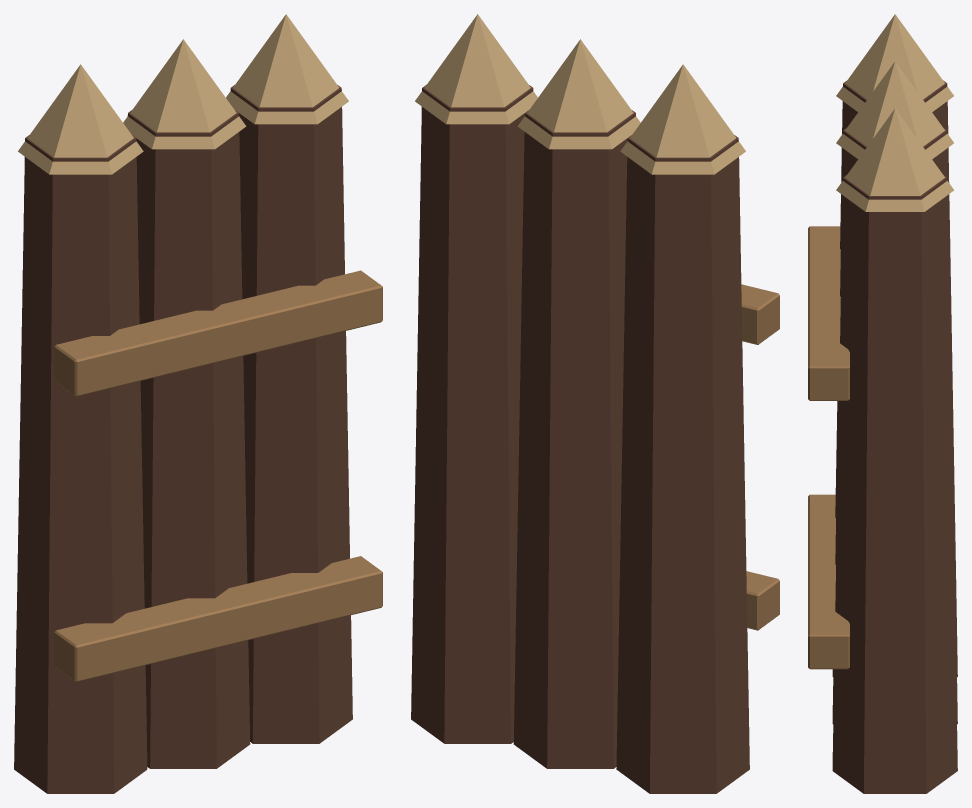
The model's file is wall.glb.
3 renders of one model, left to right at view 1: azimuth 30°, elevation 25°; view 2: azimuth 150°, elevation 25°; view 3: azimuth 270°, elevation 25°, orthographic. The views are drawn at different scales.
Parts seen in each view (by area): view 1: Geometry; view 2: Geometry; view 3: Geometry.
Part boxes in pixels (x1=…): Geometry: x1=14, y1=14, x2=382, y2=793; Geometry: x1=411, y1=14, x2=779, y2=793; Geometry: x1=808, y1=14, x2=957, y2=793.
Size of the model in its own units: 0.96 by 2.1 by 0.43.
